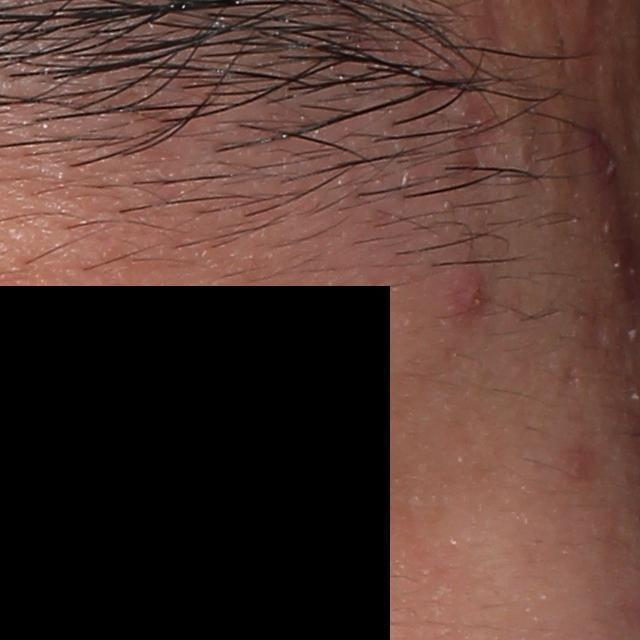papule: (452, 267, 491, 324)
